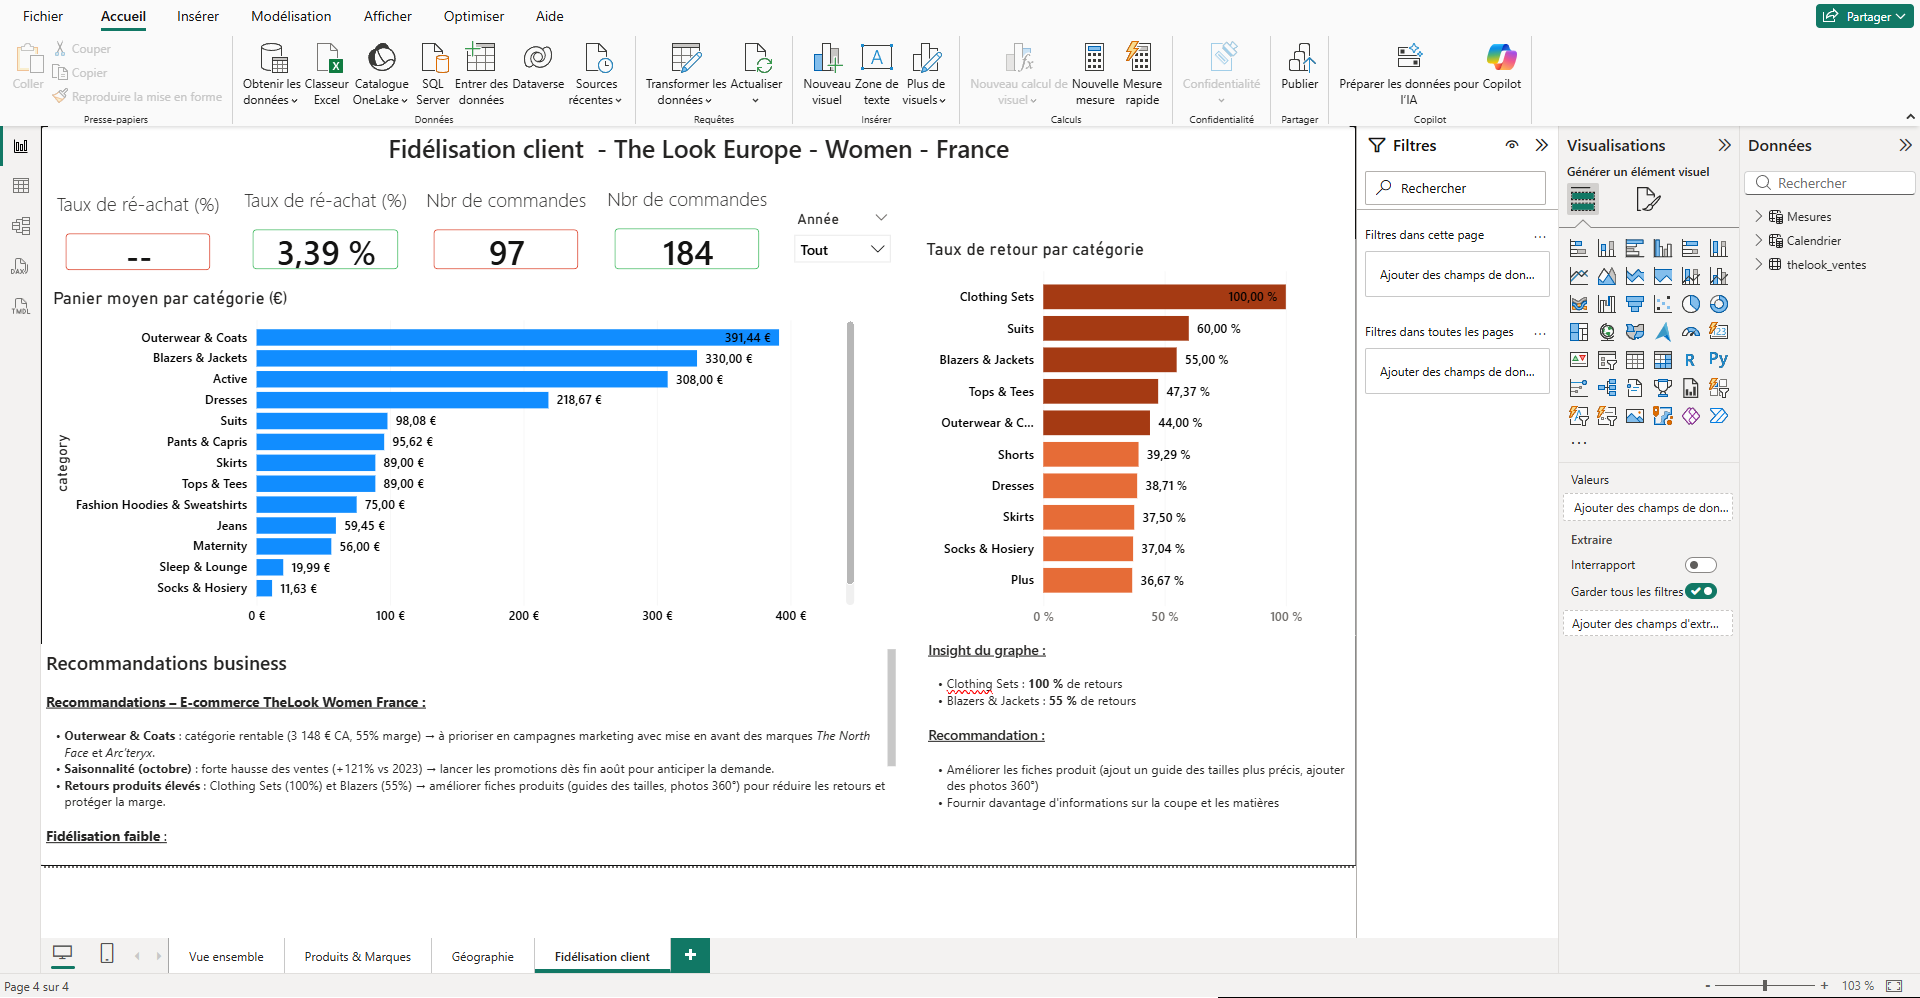

The dashboard page shown, as its layout file describes it:
{"tool":"powerbi","page":{"name":"Fidélisation client","canvas":[1280,720],"ordinal":3},"visuals":[{"type":"textbox","box":[7,0,1266.8,49.2],"z":0},{"type":"cardVisual","title":"Taux de ré-achat (%)","fields":{"Data":["Mesures.005_Taux_reachat"]},"box":[32,58,176,104],"z":1000},{"type":"cardVisual","title":"Taux de ré-achat (%)","fields":{"Data":["Mesures.005_Taux_reachat"]},"box":[208.1,58.4,176,104.1],"z":2000},{"type":"clusteredBarChart","title":"Panier moyen par catégorie (€)","fields":{"Category":["thelook_ventes.category"],"Y":["Mesures.003_Panier_moyen"]},"box":[24.3,157.6,499,337.5],"z":3000},{"type":"clusteredColumnChart","title":"Évolution du taux de ré-achat par année","fields":{"Category":["thelook_ventes.Année"],"Y":["Mesures.005_Taux_reachat"]},"box":[545,110,292,386],"z":4000},{"type":"textbox","box":[0,504.2,837.1,215.1],"z":5000},{"type":"clusteredBarChart","title":"Taux de retour par catégorie","fields":{"Category":["thelook_ventes.category"],"Y":["Mesures.004_Taux_retour"]},"box":[857,110,423,326],"z":6000},{"type":"textbox","box":[852.7,454.6,420.5,141.1],"z":7000},{"type":"slicer","fields":{"Values":["thelook_ventes.Année"]},"box":[384,85,114,64],"z":8000}]}

Visuals, with their boxes on the page's 1280x720 design canvas (x1, y1, x2, y2). These are canvas units, not pixel positions in the 1920x998 screenshot, which may show the page scaled, cropped or inside an application window:
textbox: [left=7, top=0, right=1274, bottom=49]
"Taux de ré-achat (%)" cardVisual: [left=32, top=58, right=208, bottom=162]
"Taux de ré-achat (%)" cardVisual: [left=208, top=58, right=384, bottom=162]
"Panier moyen par catégorie (€)" clusteredBarChart: [left=24, top=158, right=523, bottom=495]
"Évolution du taux de ré-achat par année" clusteredColumnChart: [left=545, top=110, right=837, bottom=496]
textbox: [left=0, top=504, right=837, bottom=719]
"Taux de retour par catégorie" clusteredBarChart: [left=857, top=110, right=1280, bottom=436]
textbox: [left=853, top=455, right=1273, bottom=596]
slicer - thelook_ventes.Année: [left=384, top=85, right=498, bottom=149]
